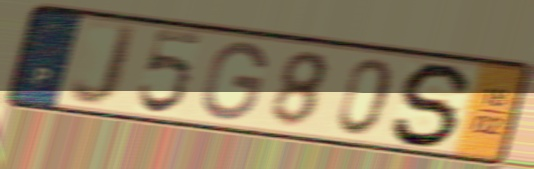0: (335, 57, 397, 137)
5: (135, 26, 206, 117)
8: (268, 48, 334, 129)
G: (197, 39, 271, 124)
J: (67, 20, 142, 111)
S: (388, 60, 478, 149)
